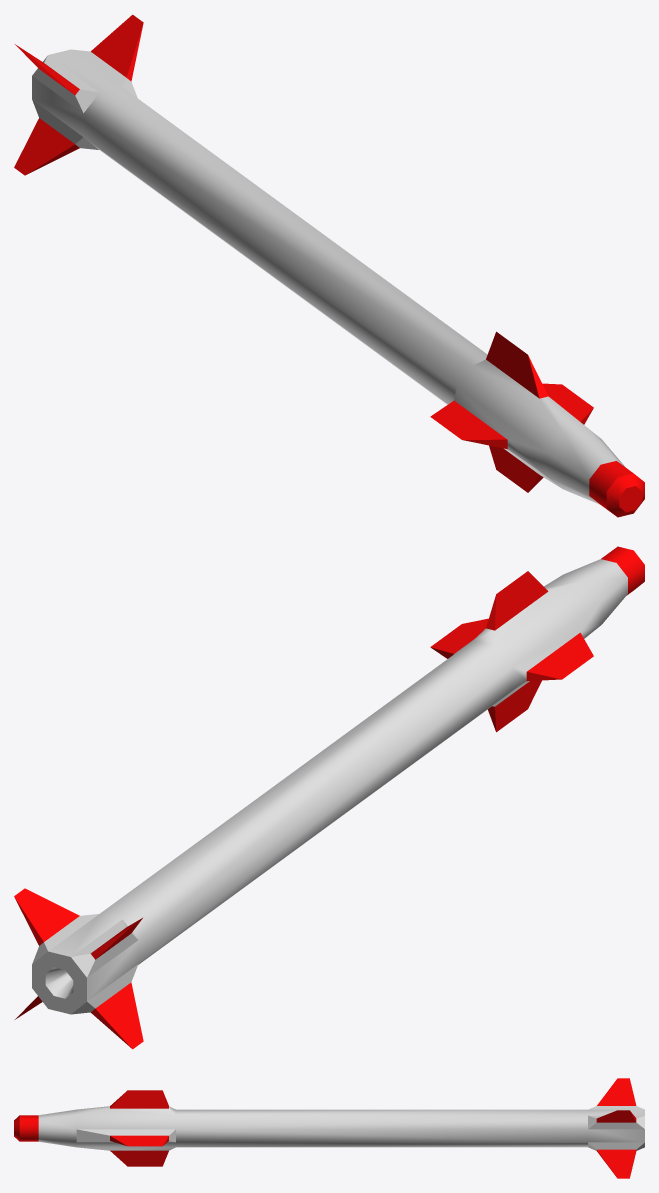
File: smartmissile.obj
3 renders of one model, top to bottom at view 1: azimuth 30°, elevation 25°; view 2: azimuth 150°, elevation 25°; view 3: azimuth 270°, elevation 25°, orthographic. The views are drawn at different scales.
Parts seen in each view (by area): view 1: cylinder1_default, cylinder1_marker; view 2: cylinder1_default, cylinder1_marker; view 3: cylinder1_default, cylinder1_marker.
Boxes of the visible parts, x1=… form: cylinder1_default: x1=32, y1=49, x2=624, y2=504; cylinder1_marker: x1=14, y1=14, x2=644, y2=517; cylinder1_default: x1=32, y1=559, x2=627, y2=1014; cylinder1_marker: x1=14, y1=546, x2=644, y2=1049; cylinder1_default: x1=38, y1=1106, x2=644, y2=1150; cylinder1_marker: x1=14, y1=1078, x2=636, y2=1178.
Bounding box in the file's own units: 0.6227 × 0.6227 × 4.66.
